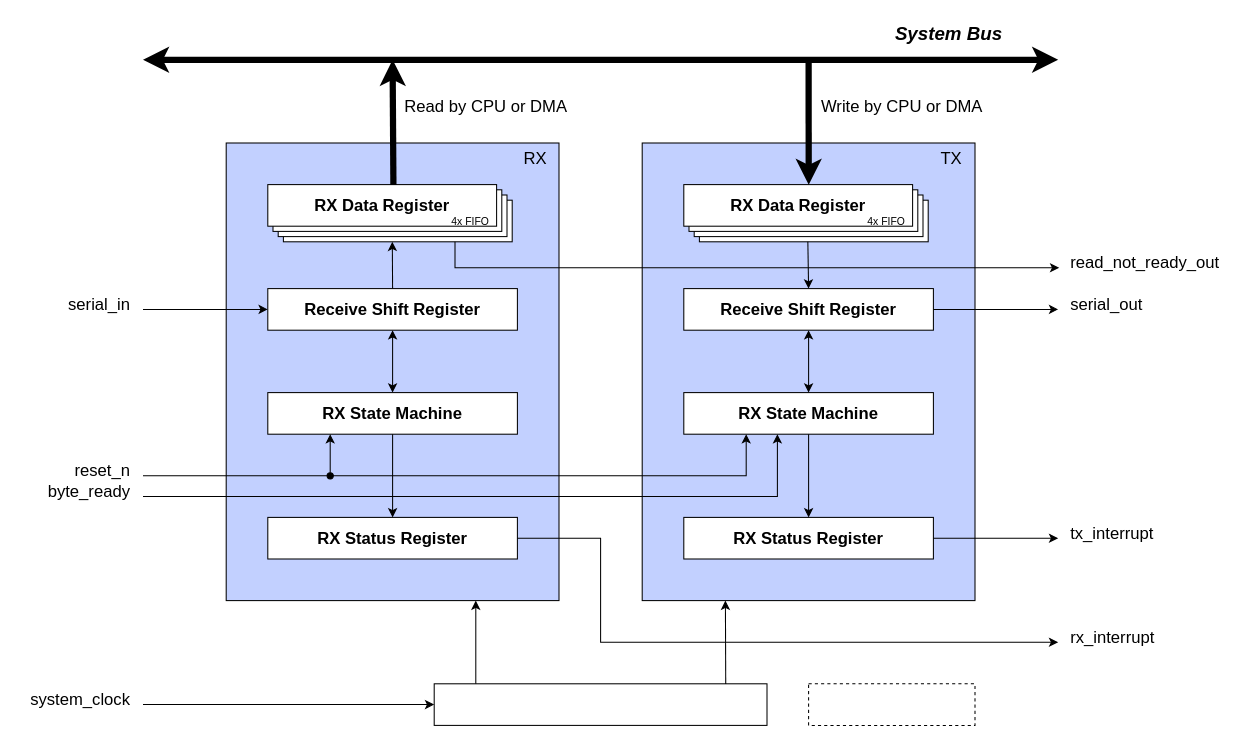
The diagram is 1252 pixels wide and 744 high, and some of its shapes have lost their labels. Here are the shapes that lost their labels. From the top down, the centre of each, then its label:
(600,704): 16x oversampling
(891,704): Control Register
